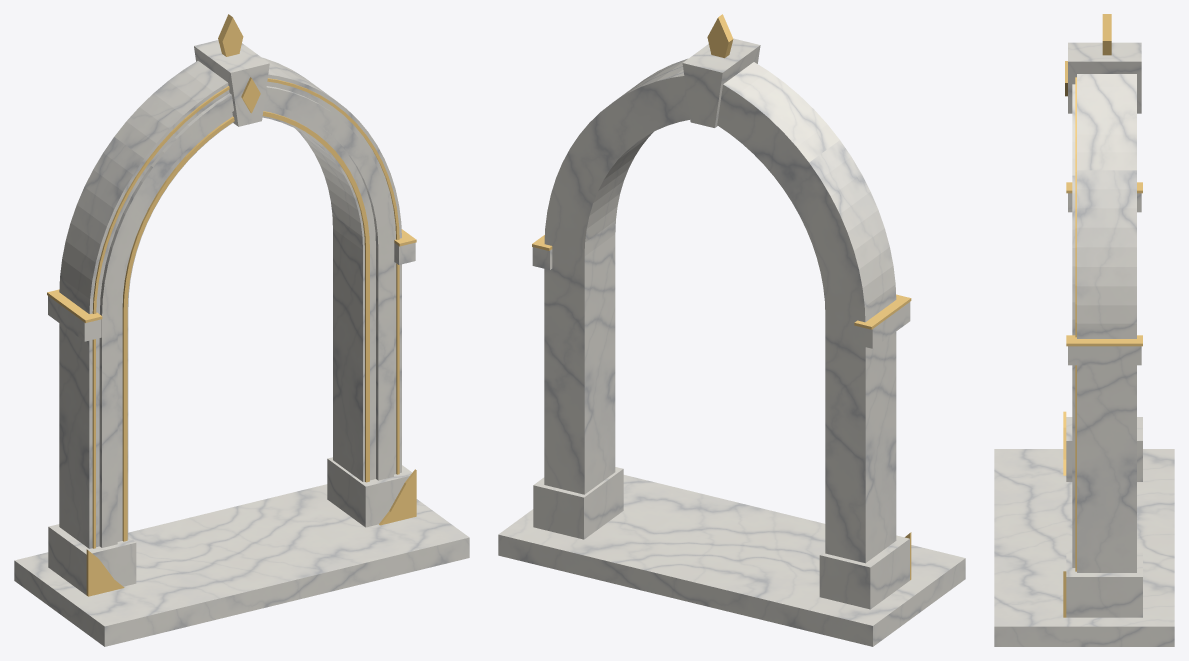
Rendered from door_frame.gltf.
3 views of the same model, side by side, from view 1: azimuth 30°, elevation 25°; view 2: azimuth 150°, elevation 25°; view 3: azimuth 270°, elevation 25° (orthographic). The views are drawn at different scales.
Visible parts, largest first — view 1: door_frame; view 2: door_frame; view 3: door_frame.
Boxes of the visible parts, x1,y1,x2,y2 form: door_frame: (14, 14, 469, 646); door_frame: (498, 14, 965, 646); door_frame: (994, 14, 1174, 646).
Size of the model in its own units: 2.8 by 4 by 1.2.
Materials: 2 (1 with a texture image).
